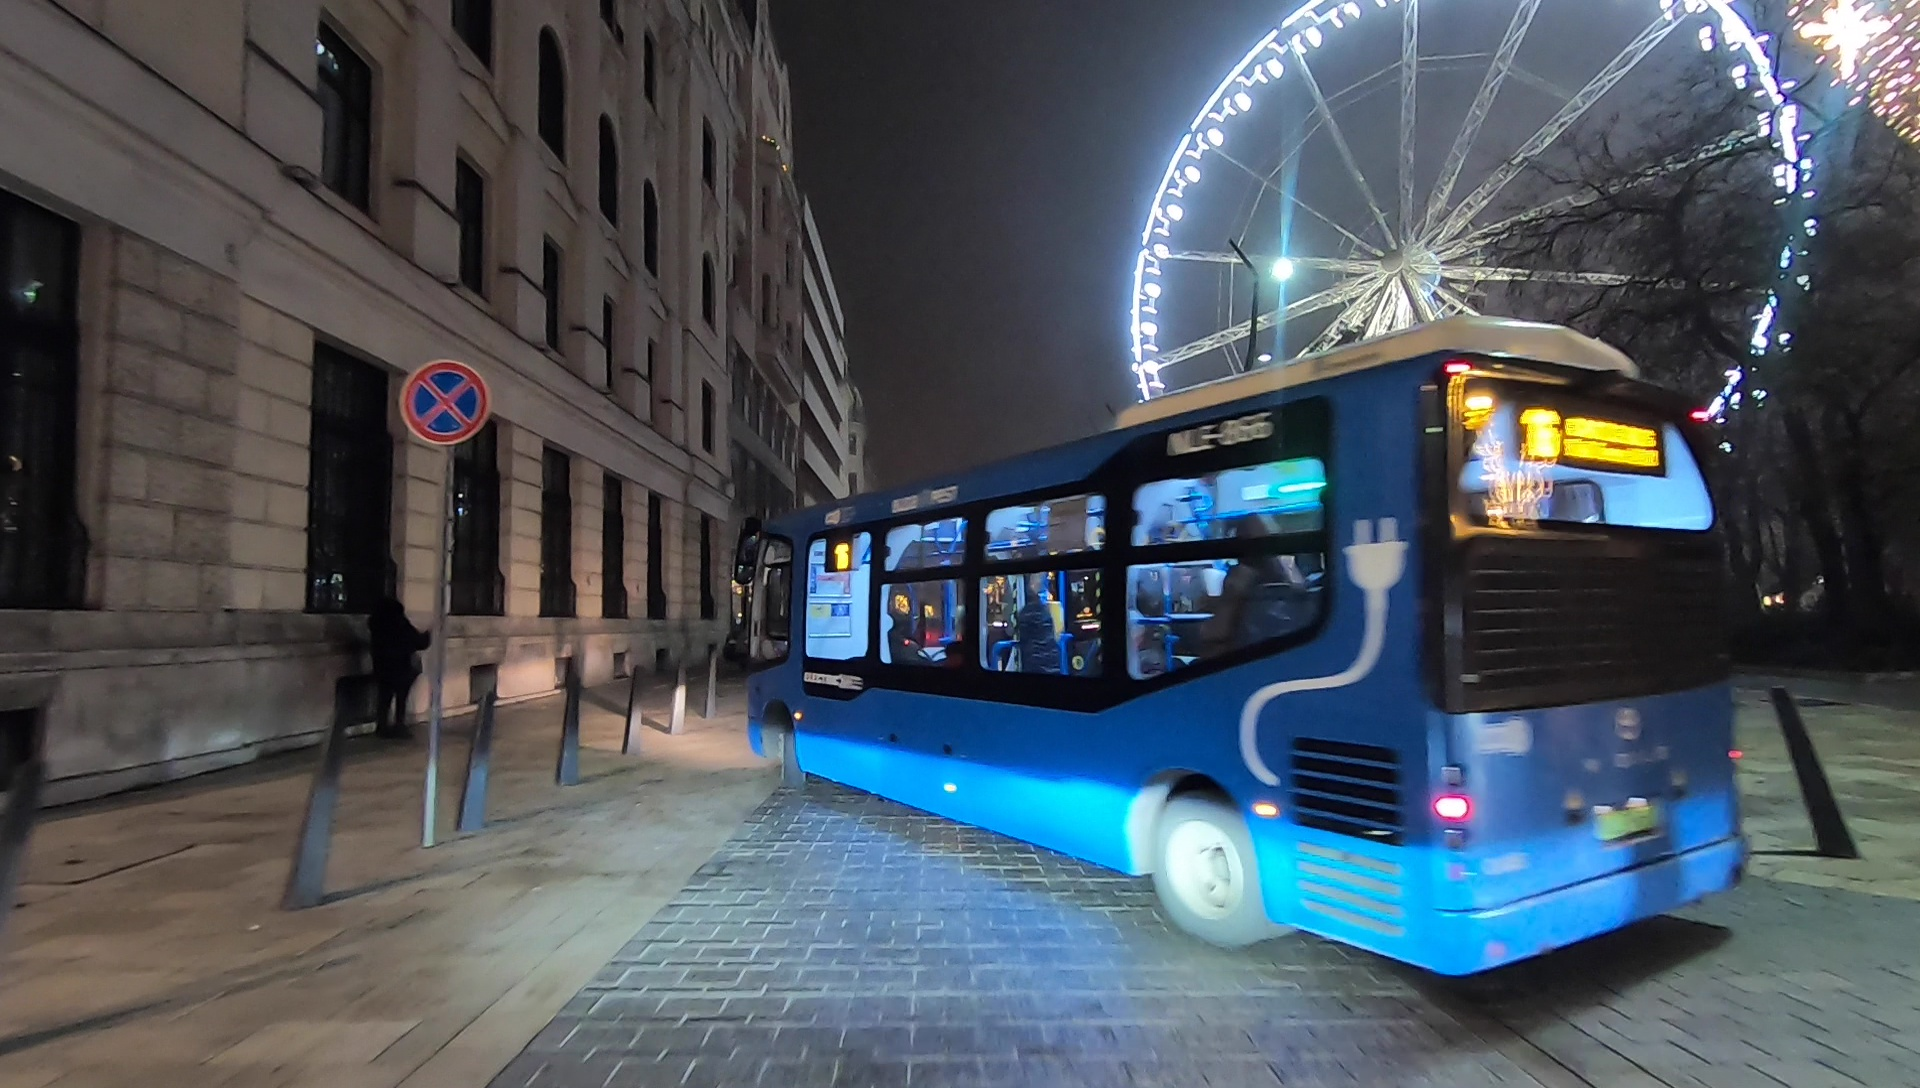person: (369, 591, 428, 730)
